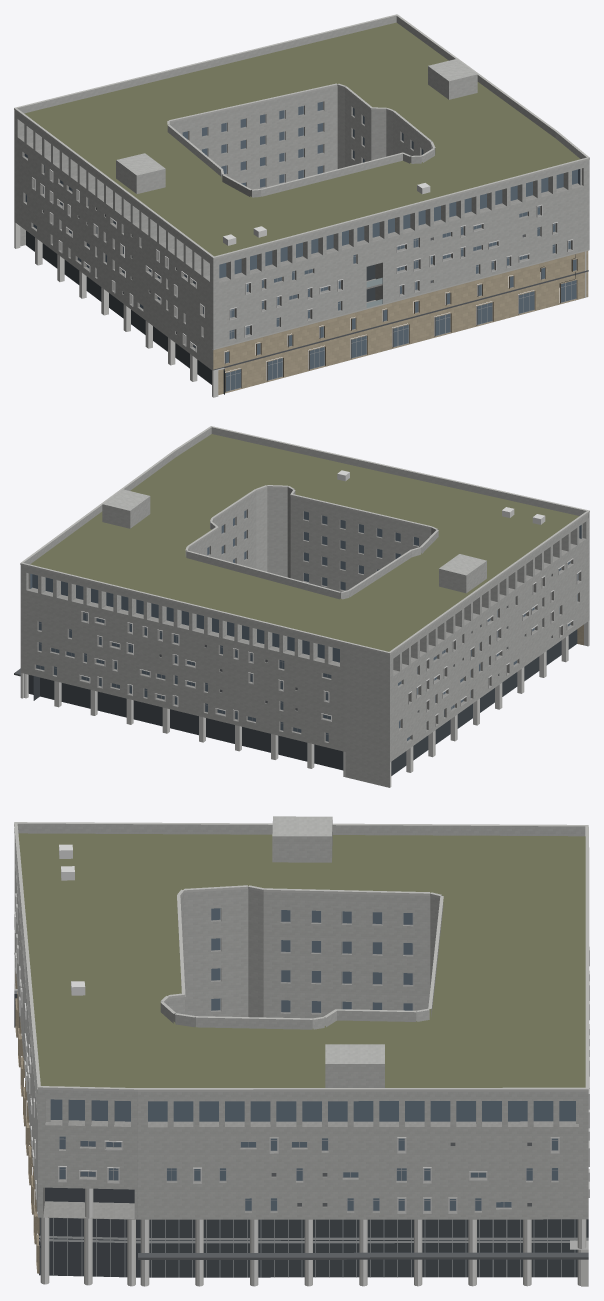
3 views of the same model, one above another, from view 1: azimuth 30°, elevation 25°; view 2: azimuth 150°, elevation 25°; view 3: azimuth 270°, elevation 25° (orthographic). The views are drawn at different scales.
Parts seen in each view (by area): view 1: libertasA__wall, libertasA__green, libertasA__base, libertasA__glass, libertasA__reveal, libertasA__cap, libertasA__glassDark, libertasA__boxFrame, libertasA__frame, libertasA__column, libertasA__baseRev, libertasA__metal; view 2: libertasA__wall, libertasA__green, libertasA__glassDark, libertasA__reveal, libertasA__glass, libertasA__cap, libertasA__column, libertasA__boxFrame, libertasA__frame; view 3: libertasA__green, libertasA__wall, libertasA__glassDark, libertasA__glass, libertasA__cap, libertasA__frame, libertasA__column, libertasA__reveal, libertasA__metal, libertasA__boxFrame, libertasA__baseRev, libertasA__unit.
Boxes of the visible parts, bbox=[...] form: libertasA__wall: bbox=[14, 15, 589, 370]; libertasA__green: bbox=[24, 22, 580, 256]; libertasA__base: bbox=[213, 251, 588, 394]; libertasA__glass: bbox=[24, 101, 580, 391]; libertasA__reveal: bbox=[18, 101, 583, 351]; libertasA__cap: bbox=[14, 14, 589, 349]; libertasA__glassDark: bbox=[26, 231, 575, 394]; libertasA__boxFrame: bbox=[31, 169, 573, 352]; libertasA__frame: bbox=[25, 102, 576, 391]; libertasA__column: bbox=[14, 222, 586, 397]; libertasA__baseRev: bbox=[224, 258, 577, 392]; libertasA__metal: bbox=[213, 270, 588, 370]; libertasA__wall: bbox=[20, 427, 589, 787]; libertasA__green: bbox=[30, 434, 579, 651]; libertasA__glassDark: bbox=[28, 629, 577, 775]; libertasA__reveal: bbox=[27, 509, 585, 743]; libertasA__glass: bbox=[30, 510, 581, 741]; libertasA__cap: bbox=[20, 426, 589, 654]; libertasA__column: bbox=[20, 620, 589, 787]; libertasA__boxFrame: bbox=[79, 558, 581, 726]; libertasA__frame: bbox=[36, 510, 578, 741]; libertasA__green: bbox=[18, 833, 585, 1087]; libertasA__wall: bbox=[14, 816, 588, 1219]; libertasA__glassDark: bbox=[14, 994, 588, 1277]; libertasA__glass: bbox=[50, 908, 575, 1210]; libertasA__cap: bbox=[14, 822, 589, 1213]; libertasA__frame: bbox=[14, 908, 588, 1277]; libertasA__column: bbox=[40, 1188, 588, 1286]; libertasA__reveal: bbox=[14, 864, 578, 1219]; libertasA__metal: bbox=[40, 1237, 588, 1259]; libertasA__boxFrame: bbox=[14, 893, 589, 1213]; libertasA__baseRev: bbox=[15, 971, 39, 1273]; libertasA__unit: bbox=[59, 844, 85, 995].
Size of the model in its own units: 75.61 by 27.7 by 67.64.
16 materials, 4 textured.
